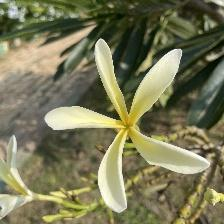champaka: (44, 38, 216, 214)
